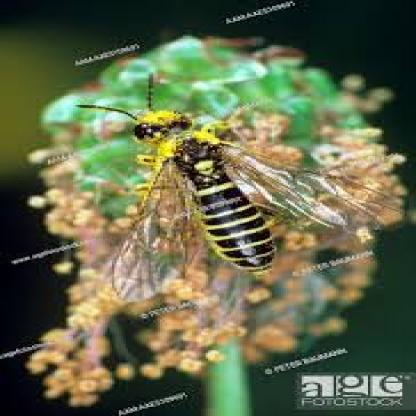sawfly: (97, 80, 411, 293)
